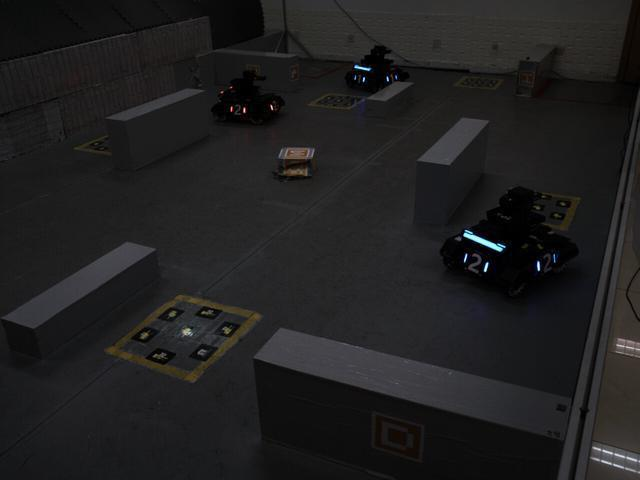armor: (456, 246, 493, 279), (534, 251, 560, 276), (226, 101, 248, 118), (351, 70, 368, 89), (268, 98, 283, 114), (384, 71, 400, 85)
